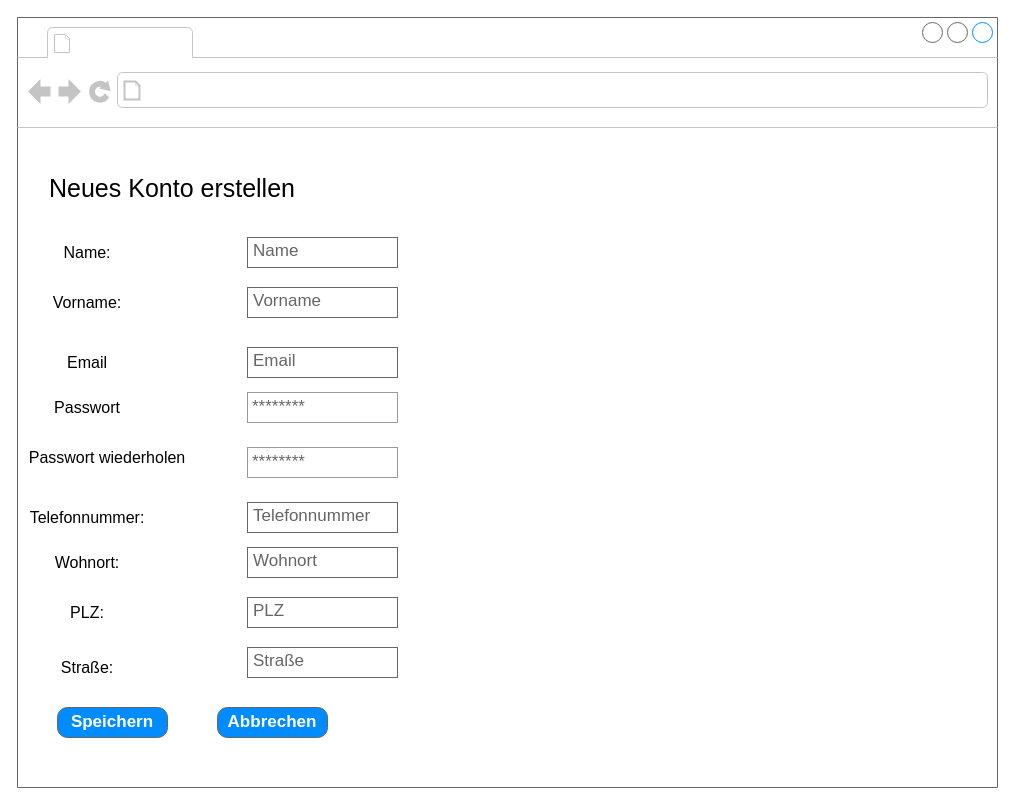
Some shapes in this 1015 by 805 pixel diagram are drawn without their labels. The box of each missing label's shape, as (x1, y1, x2, y2) in pixels:
https://www.draw.io: (146, 76, 398, 104)
Page 1: (76, 28, 188, 56)
